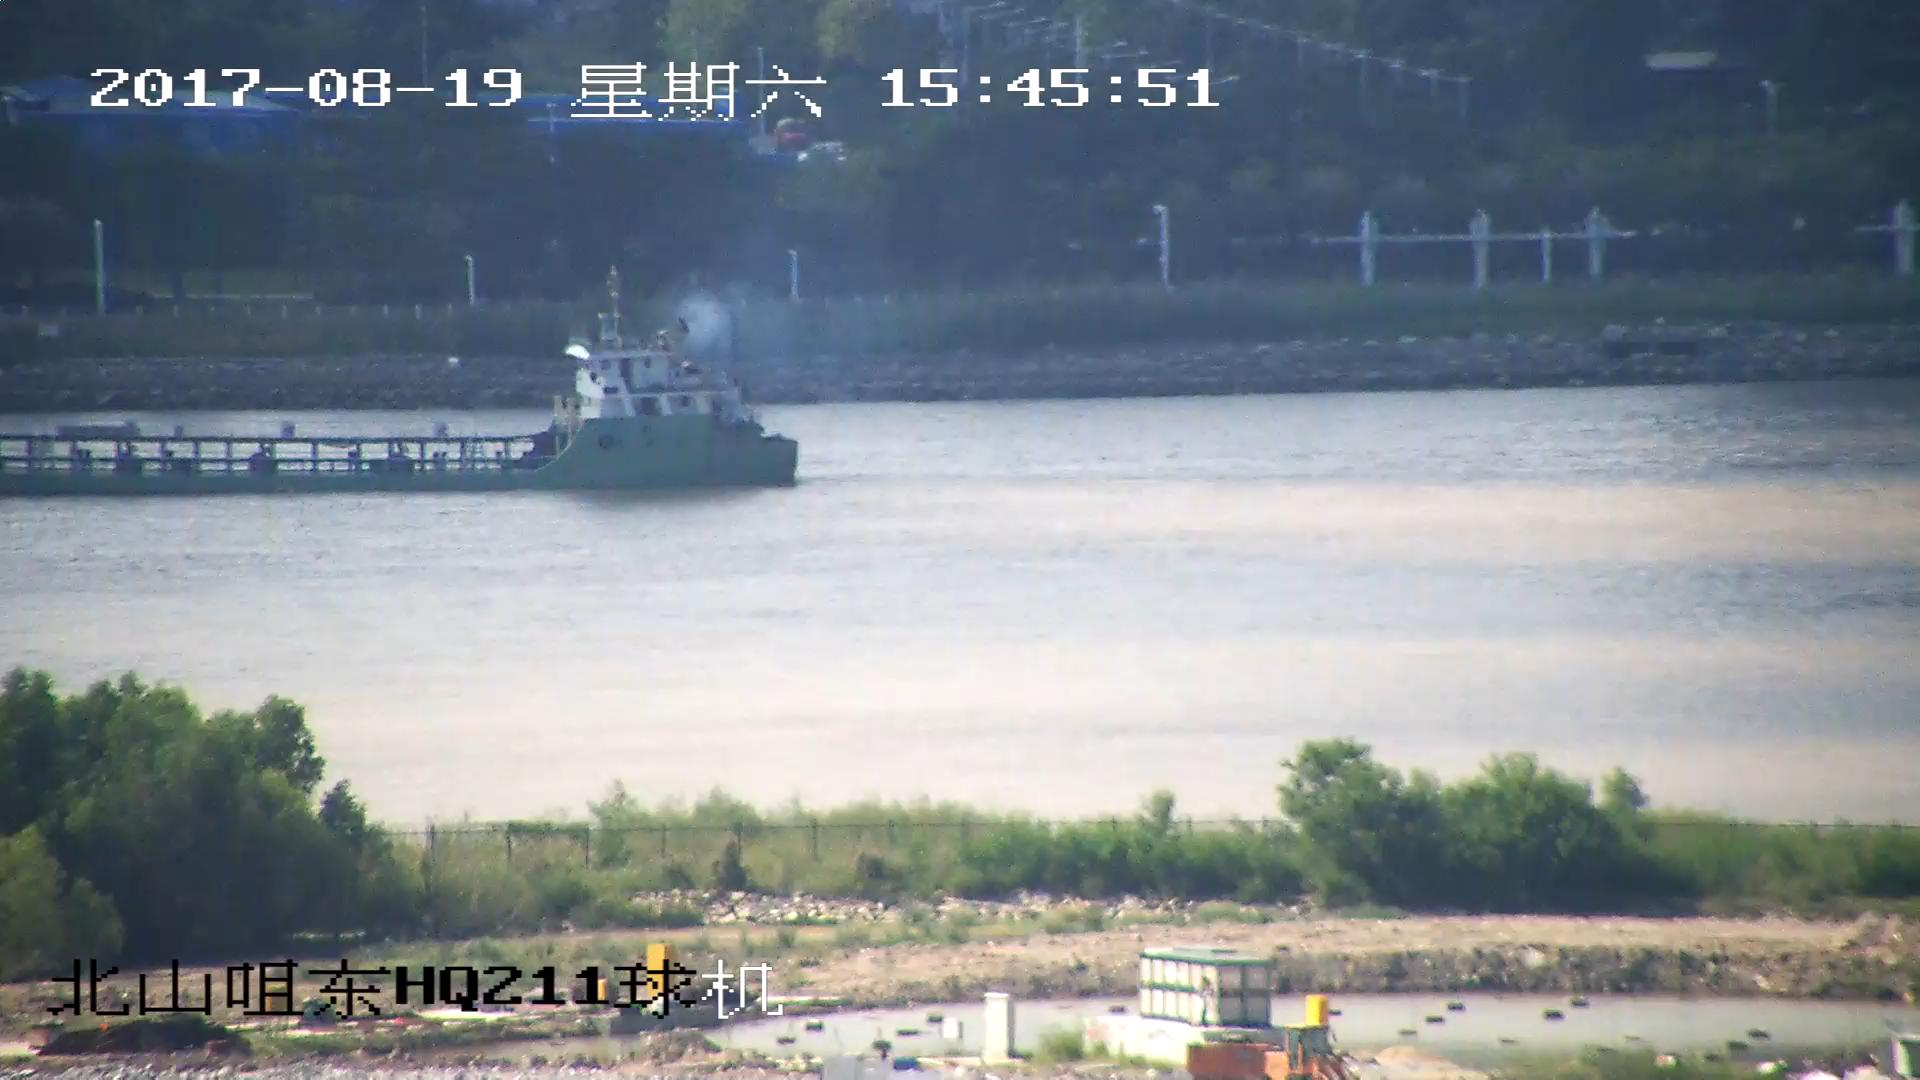general cargo ship: (1, 270, 800, 490)
